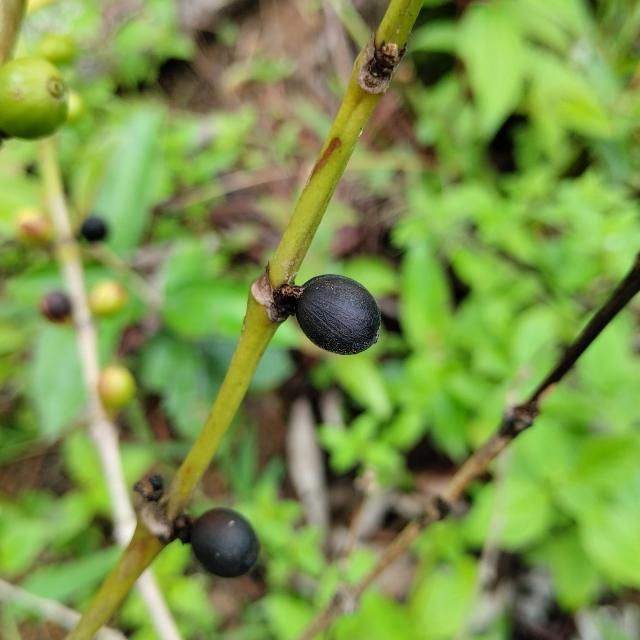Overripe: (296, 274, 381, 355), (190, 509, 259, 578)
